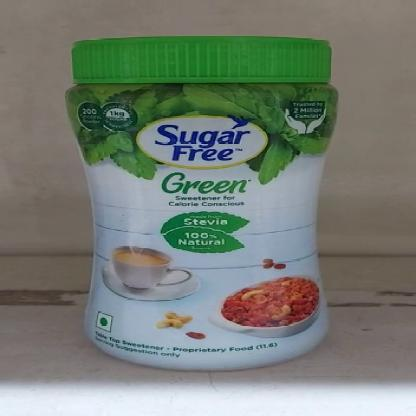SUGAR FREE_GRN_ POWDER_CONC_100G: (61, 33, 342, 372)
